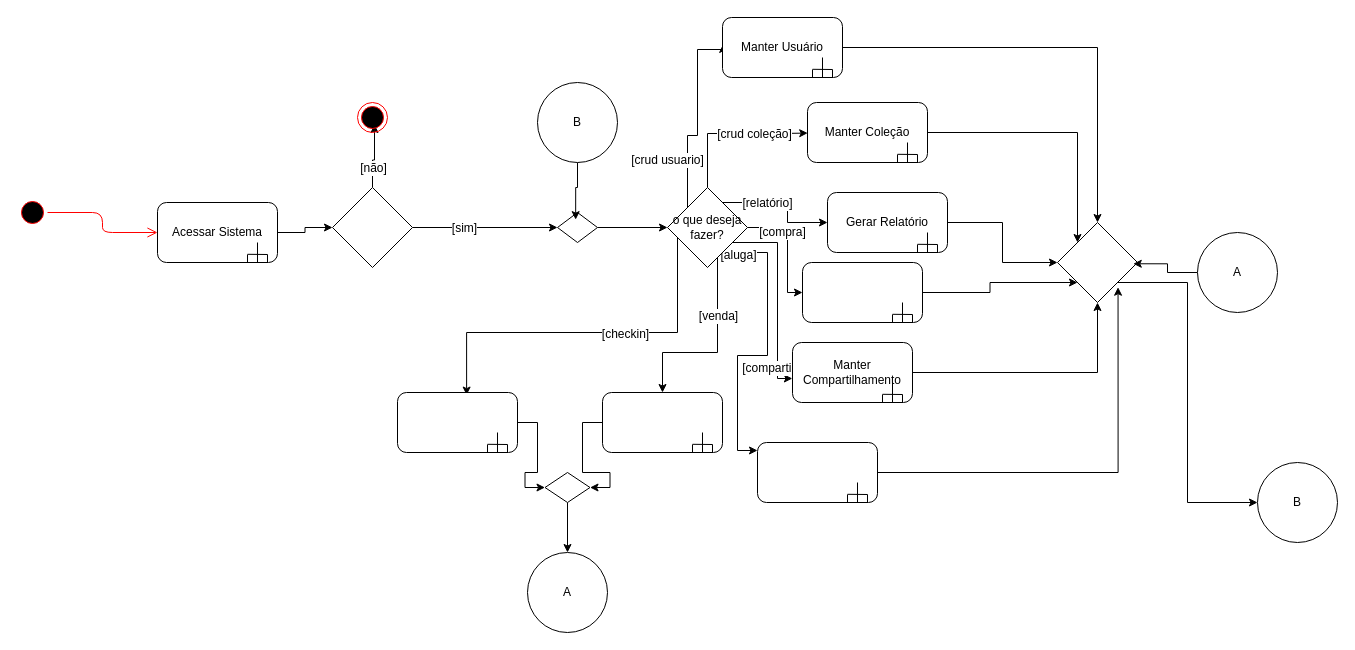
This 1355x650 diagram has some shape labels left out. The centre of each missing label's shape, as x and y in pixels:
"Acesso ok?" belongs at point 372,227.
"Manter Aluguel" belongs at point 817,472.
"Manter Checkin" belongs at point 457,422.
"Manter Compras" belongs at point 862,292.
"Manter Venda" belongs at point 662,422.
